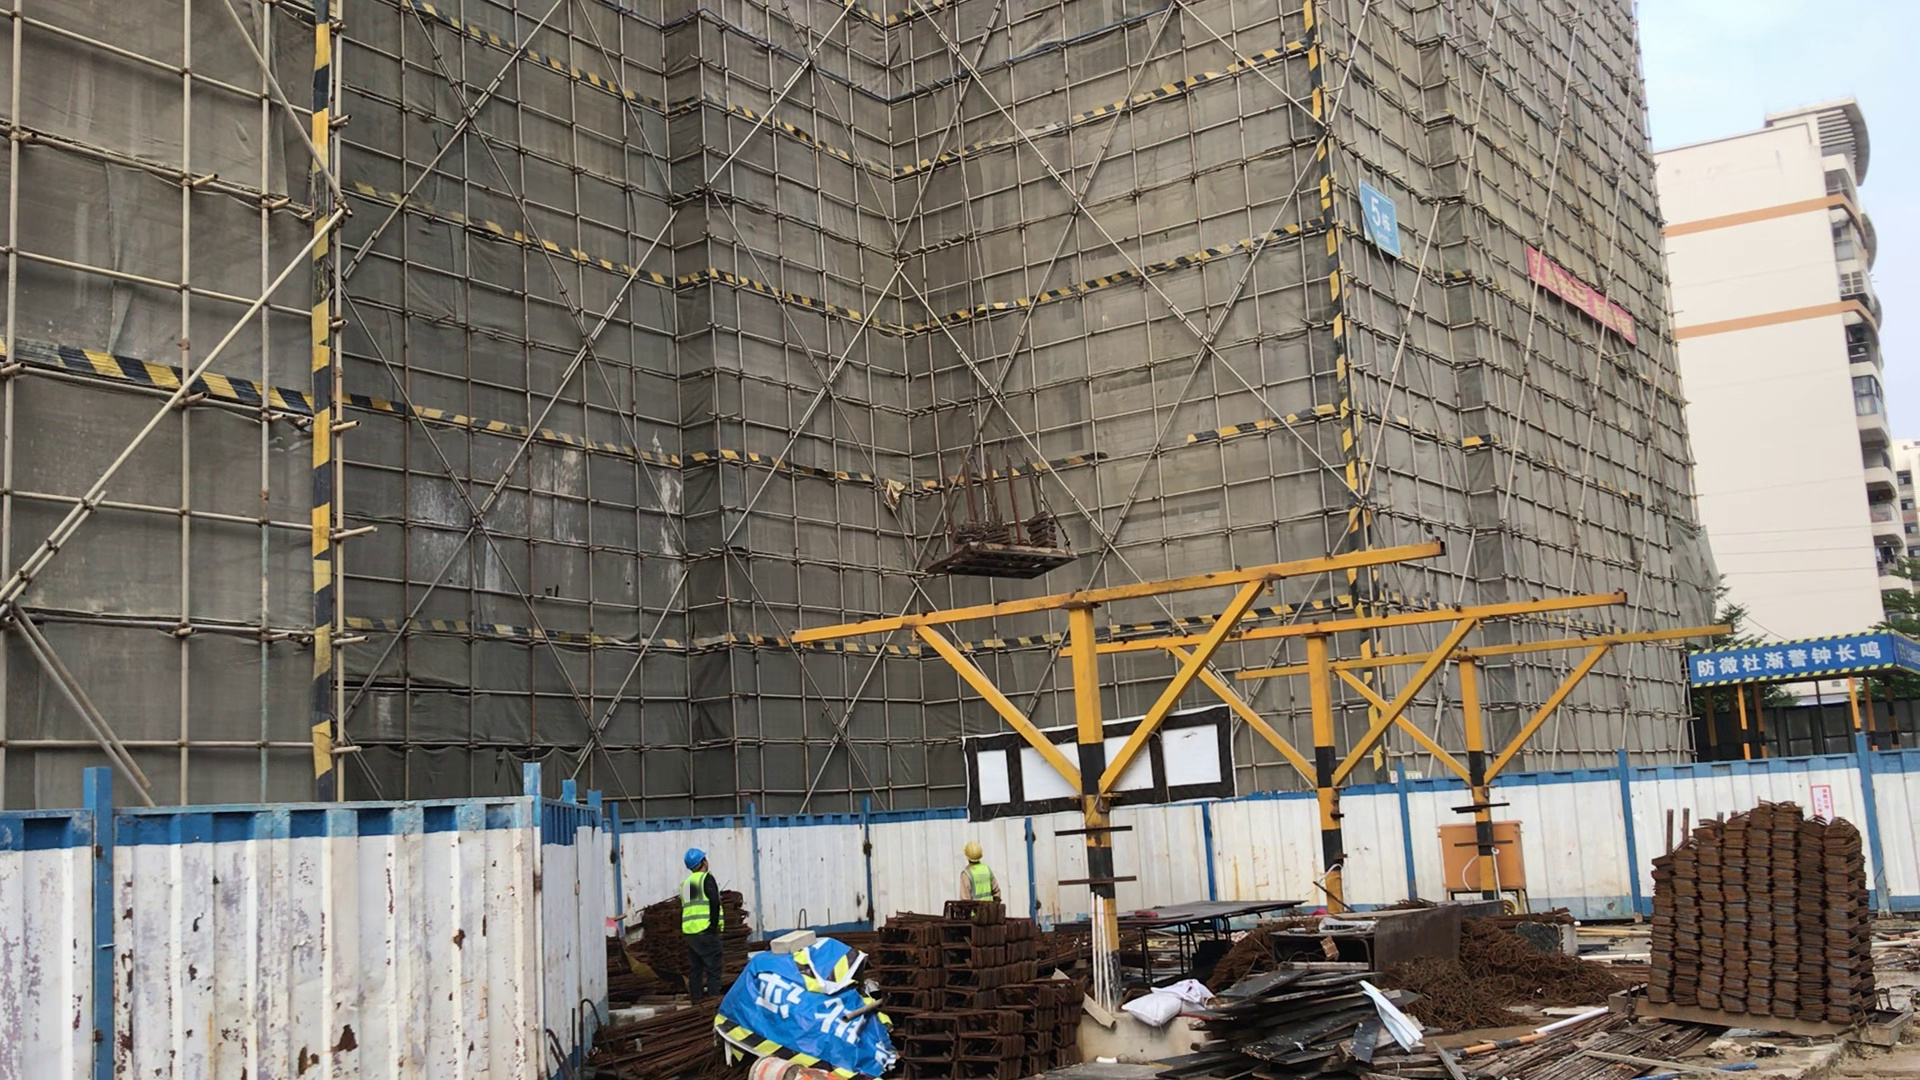helmet: (681, 847, 707, 866), (960, 842, 987, 861)
person: (656, 846, 733, 1001), (945, 842, 1008, 916)
vest: (683, 872, 725, 933), (964, 868, 998, 902)
